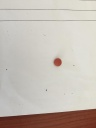Dolorex: (53, 57, 62, 67)
